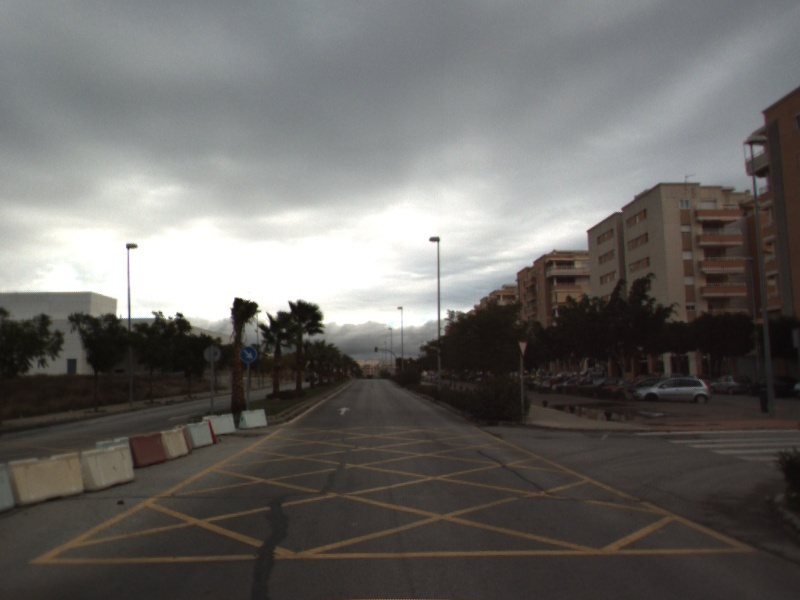STRAIGHT: (335, 405, 353, 417)
